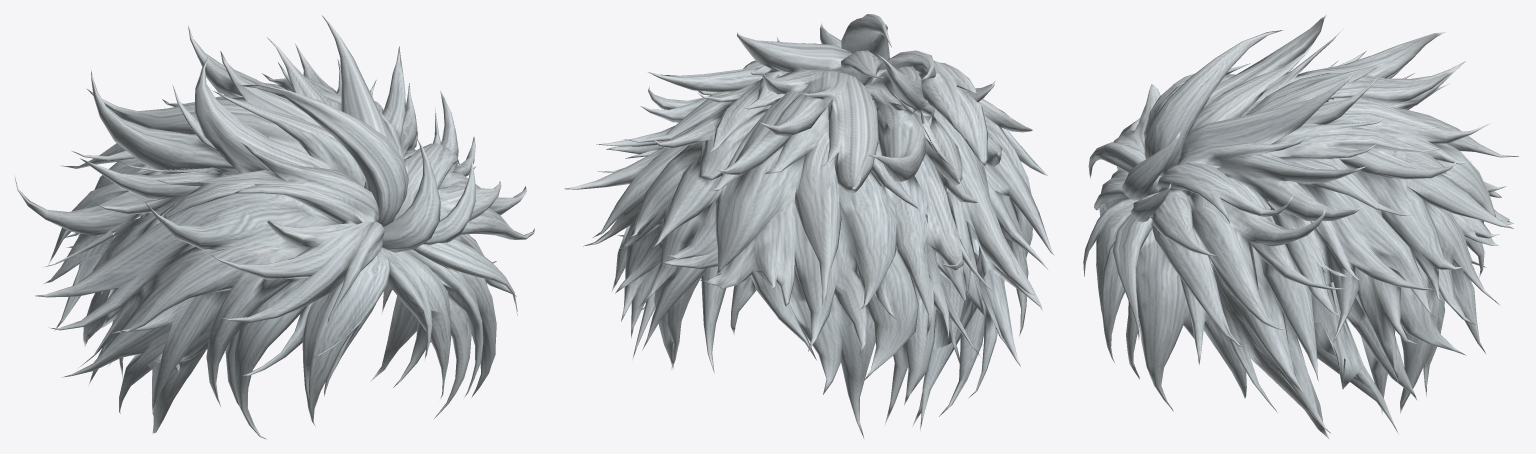
Rendered from hair-4.glb.
3 views of the same model, side by side, from view 1: azimuth 30°, elevation 25°; view 2: azimuth 150°, elevation 25°; view 3: azimuth 270°, elevation 25° (orthographic). The views are drawn at different scales.
Bounding box in the file's own units: 0.9536 × 0.7212 × 0.8154.
Materials: 1 (1 with a texture image).
